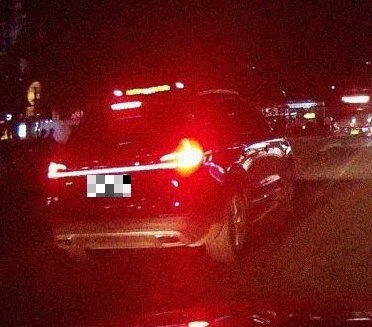L_light: (46, 162, 74, 178)
R_light: (160, 149, 204, 171)
T_light: (109, 101, 141, 110)
night-right: (43, 93, 215, 262)
plate_1: (87, 175, 131, 197)
